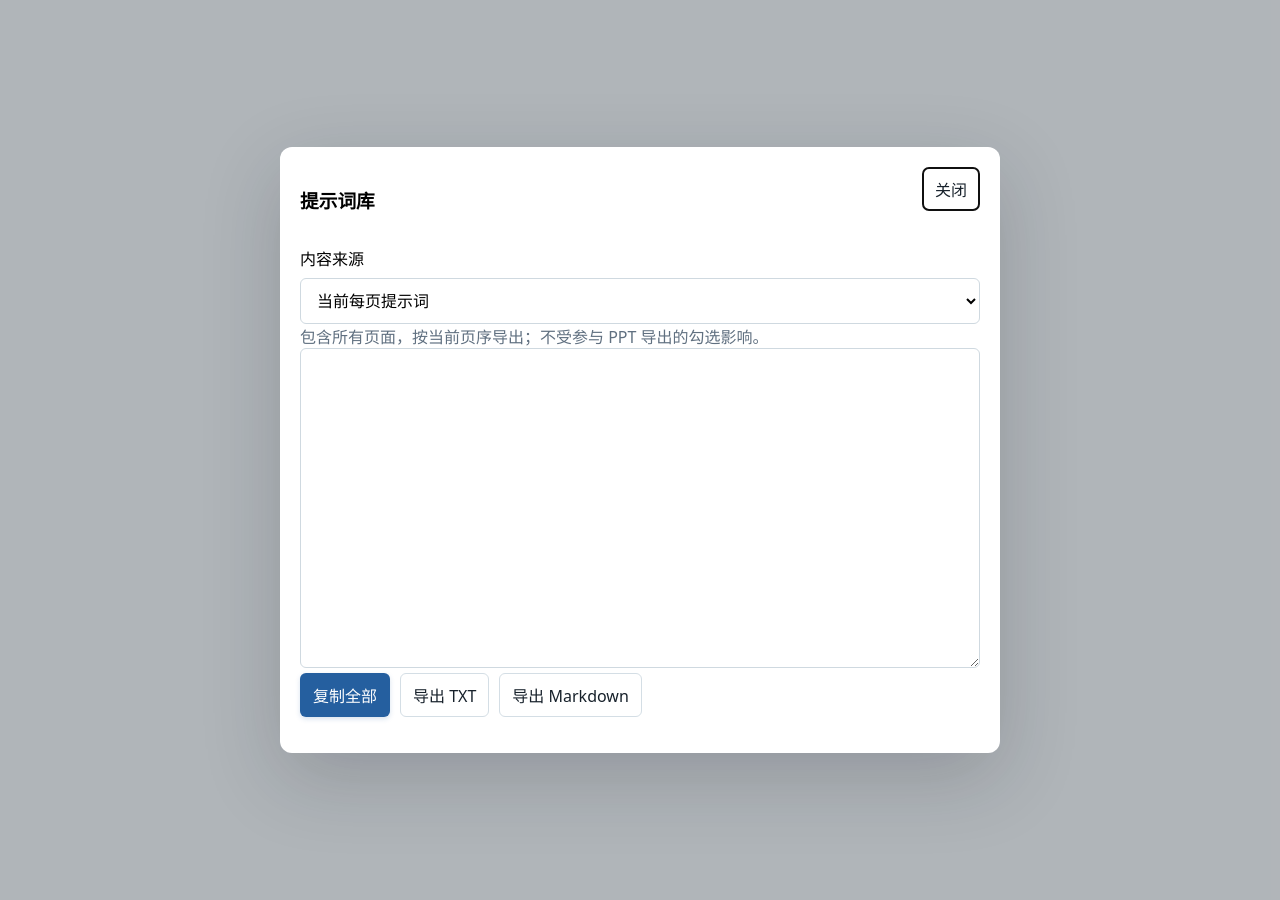
Test case: prompt library › copies original input and reports rejection without claiming success
The image size is (1280, 900).
Select "导入原文" in the dropdown labelled "内容来源": {"x": 640, "y": 301} [300, 278, 980, 324]
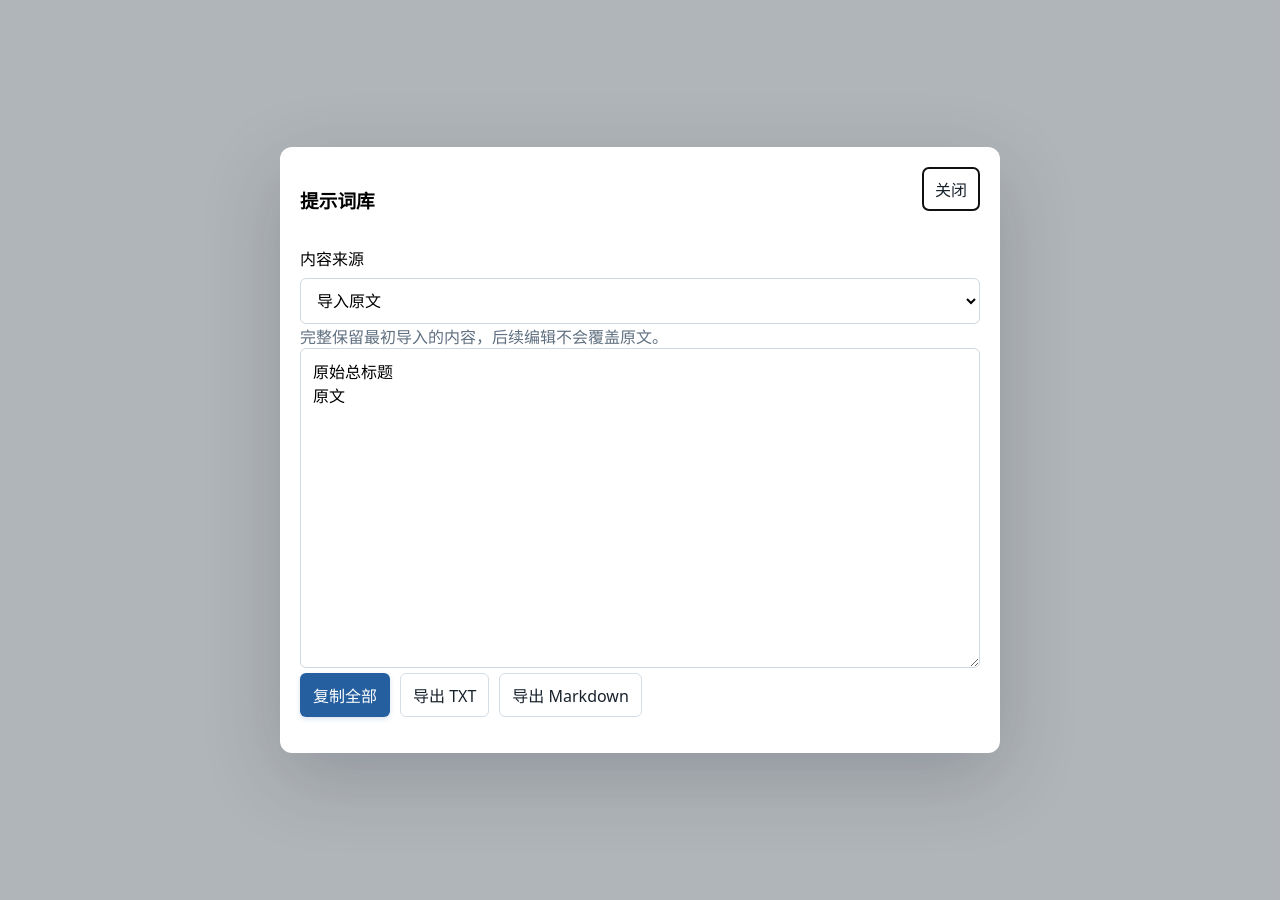
Click the button "复制全部": {"x": 345, "y": 695} [300, 673, 390, 717]
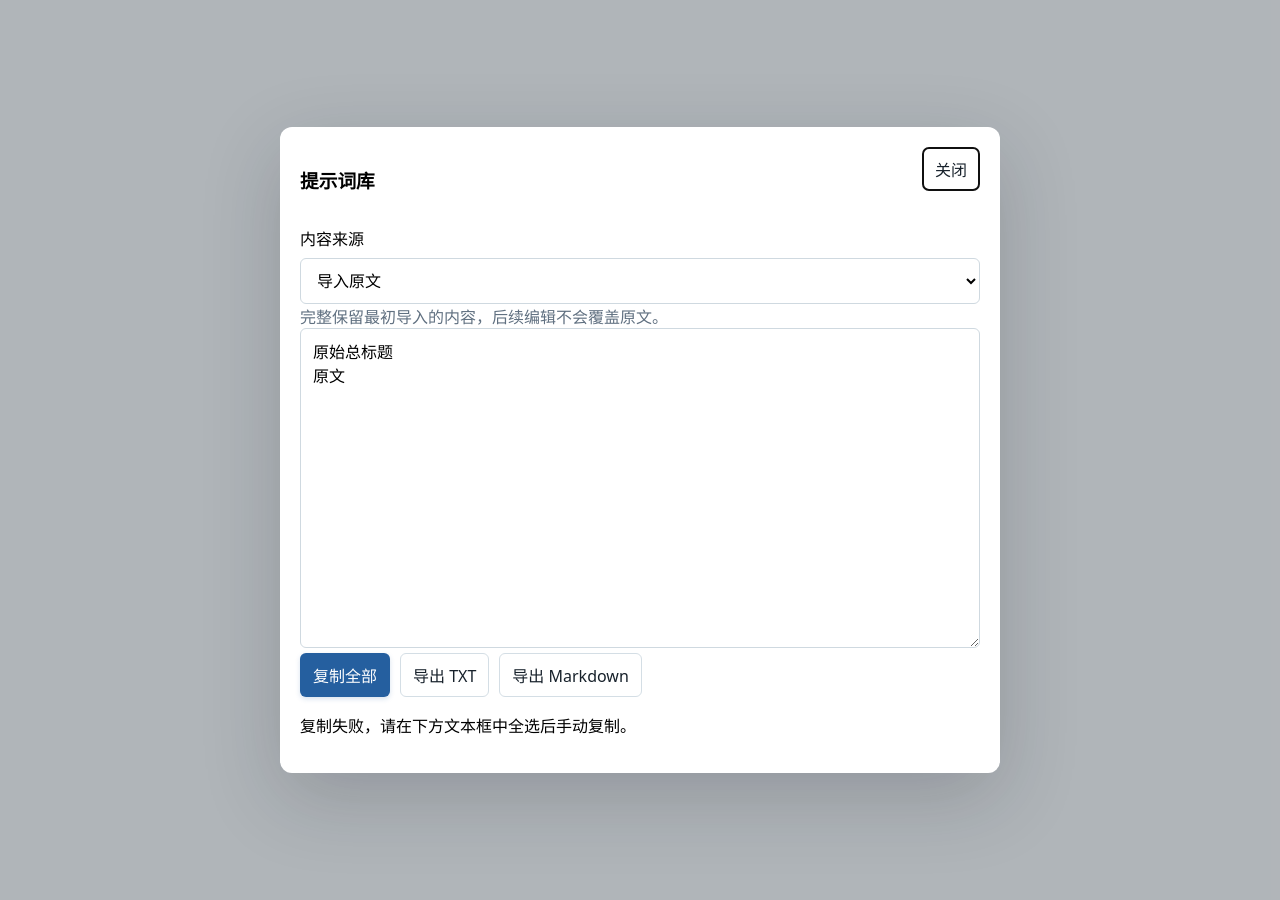
Expected: the message shows "复制失败", [300, 715, 636, 737]
